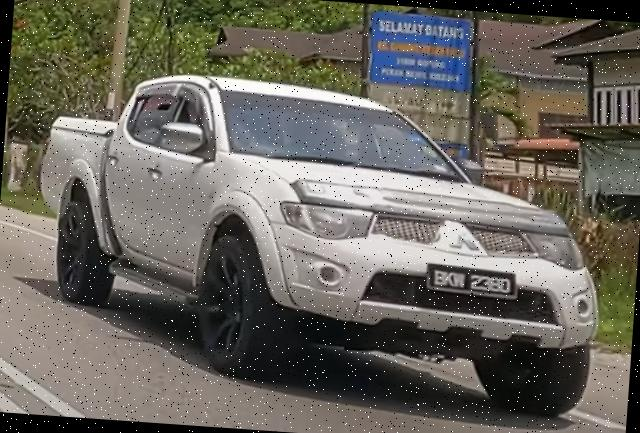License_Plate: (425, 263, 520, 301)
car: (26, 63, 616, 420)
